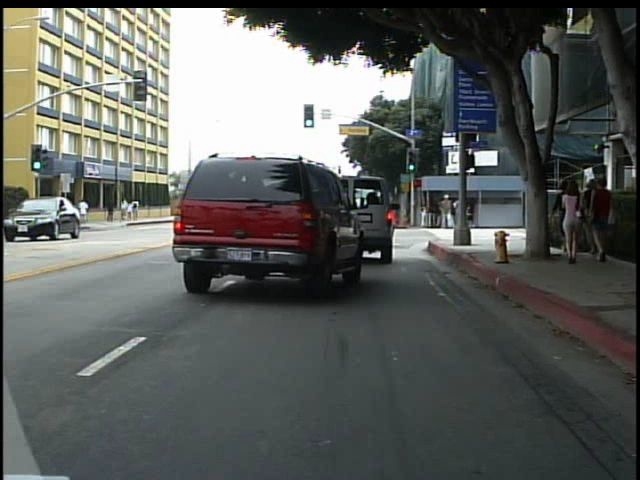person: (586, 176, 617, 268), (555, 178, 585, 269), (438, 190, 455, 233), (77, 197, 94, 225)
